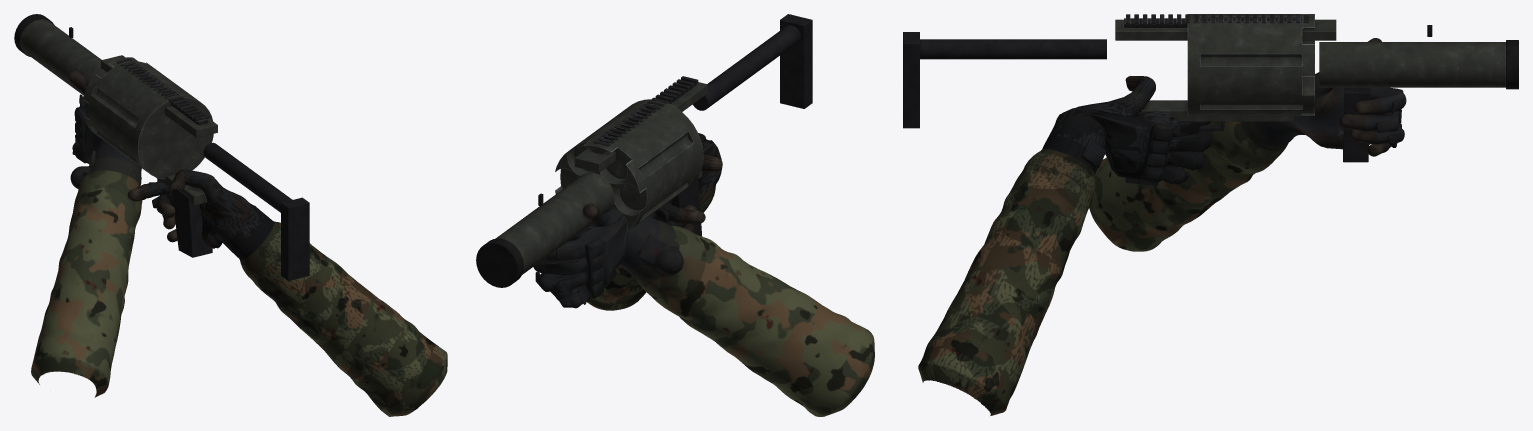
File: mgl.gltf
The picture shows the model from 3 angles, left to right: view 1: azimuth 30°, elevation 25°; view 2: azimuth 150°, elevation 25°; view 3: azimuth 270°, elevation 25°; orthographic projection. The views are drawn at different scales.
Visible parts, largest first — view 1: Body, ArmL, Mag; view 2: ArmL, Body, Mag; view 3: Body, ArmL, Mag.
Boxes of the visible parts, x1=… form: Body: x1=14, y1=14, x2=447, y2=416; ArmL: x1=31, y1=70, x2=142, y2=397; Mag: x1=83, y1=57, x2=213, y2=179; ArmL: x1=533, y1=203, x2=874, y2=416; Body: x1=476, y1=14, x2=812, y2=310; Mag: x1=555, y1=99, x2=703, y2=232; Body: x1=903, y1=14, x2=1518, y2=415; ArmL: x1=1089, y1=38, x2=1406, y2=251; Mag: x1=1187, y1=14, x2=1314, y2=115.
Bounding box in the file's own units: 0.5266 × 0.4183 × 0.725.
Materials: 2 (2 with a texture image).
